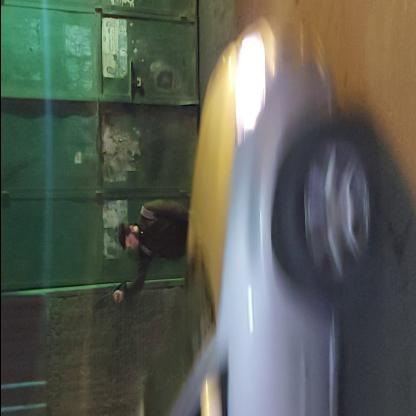long weapon: (88, 270, 132, 320)
